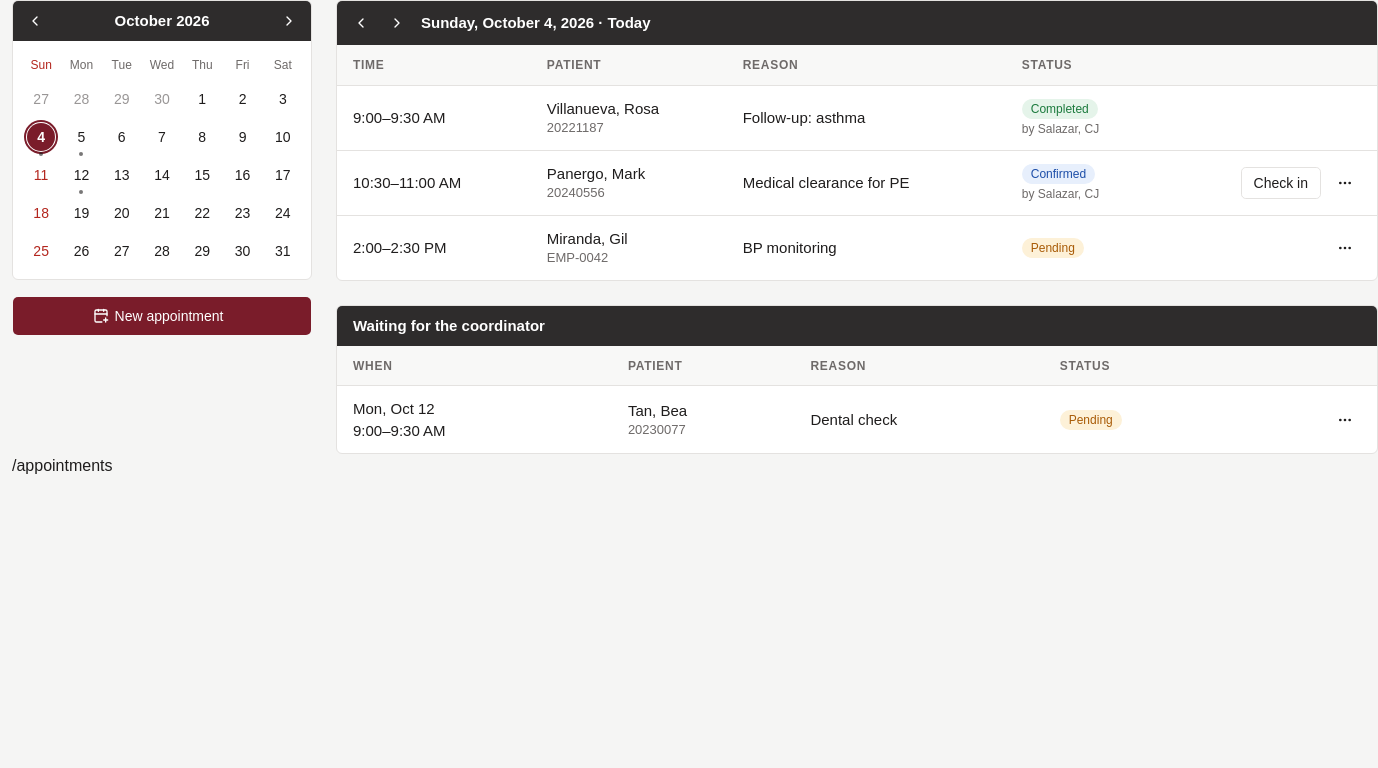
it: marks a confirmed appointment as a no-show and reports a refusal
This screenshot has width=1378, height=768.
Click the button named "More actions for Panergo, Mark".
click(1345, 183)  # box [1329, 167, 1361, 199]
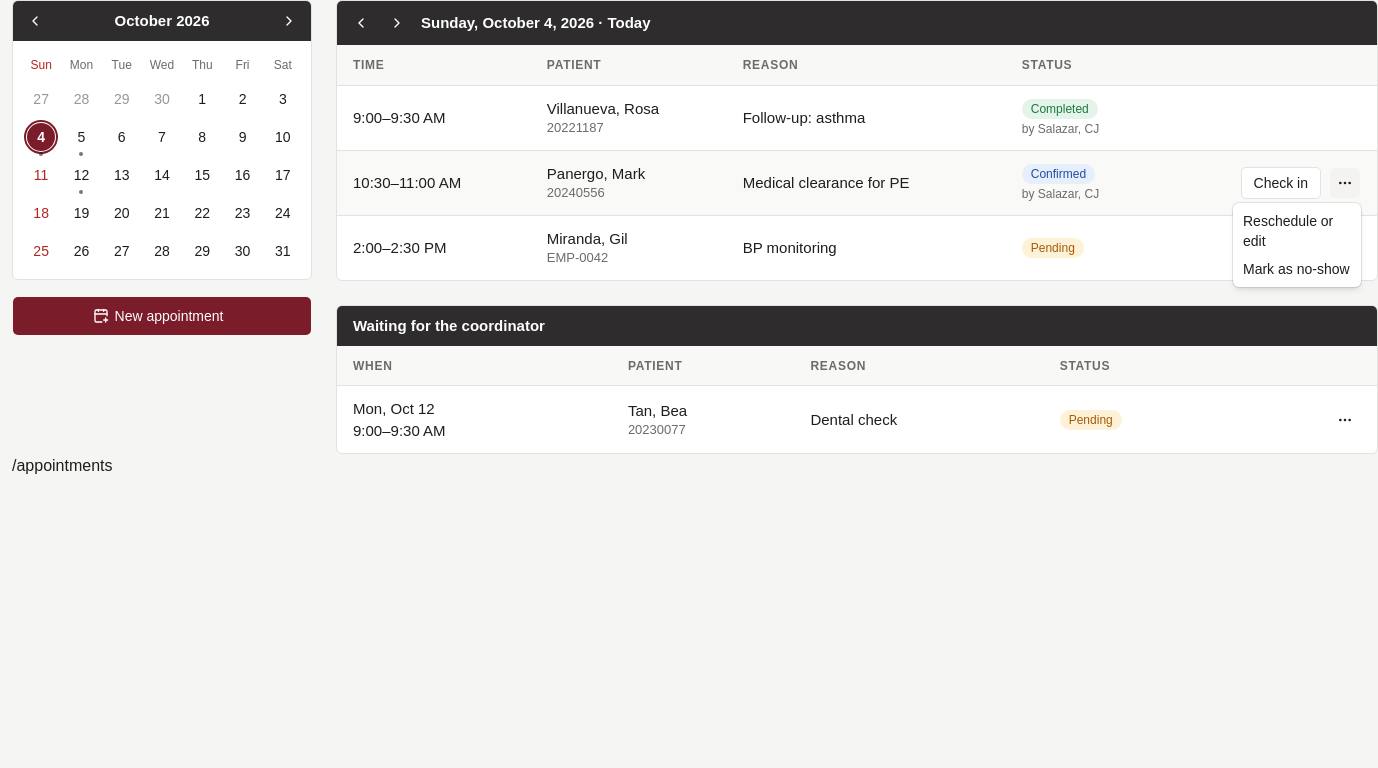
Click the menu item "Mark as no-show".
click(1296, 269)  # box [1243, 261, 1350, 277]
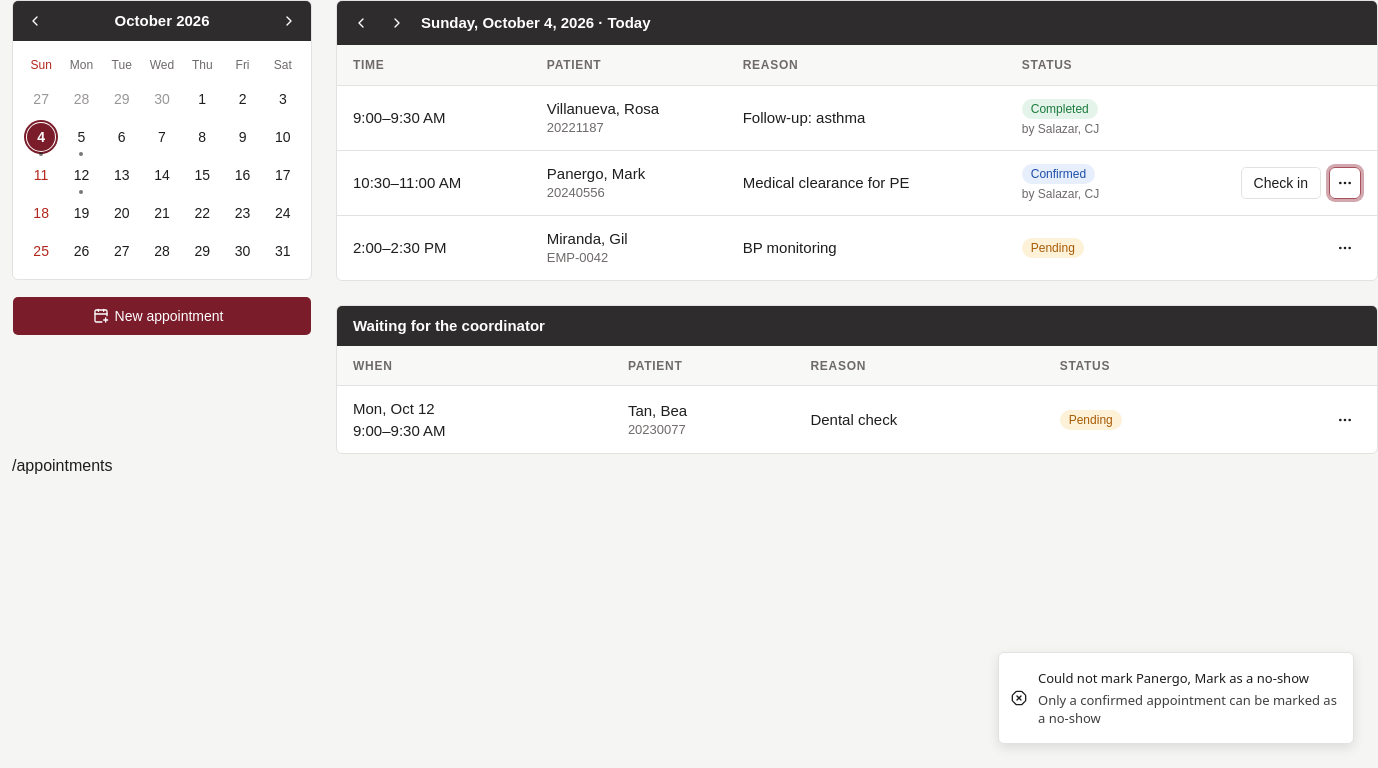
expect the text "Only a confirmed appointment can be marked as a no-show" is shown: met, box [1038, 691, 1337, 727]
